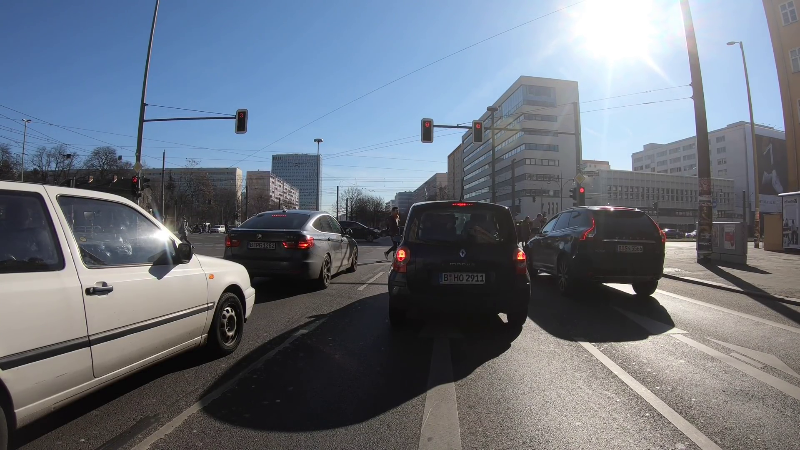Plate: (435, 270, 490, 288), (613, 241, 647, 254), (245, 239, 278, 251)
